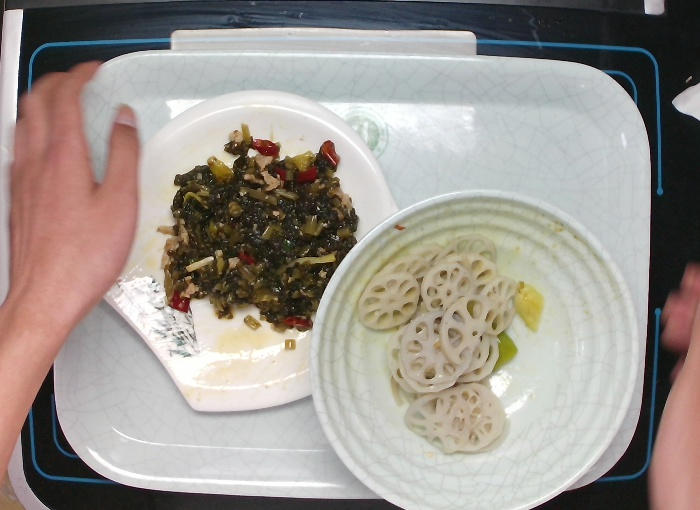JYsf-Da_Tang_Wan: (306, 186, 644, 510)
JYsf-Mian_Pan: (96, 86, 403, 418)
